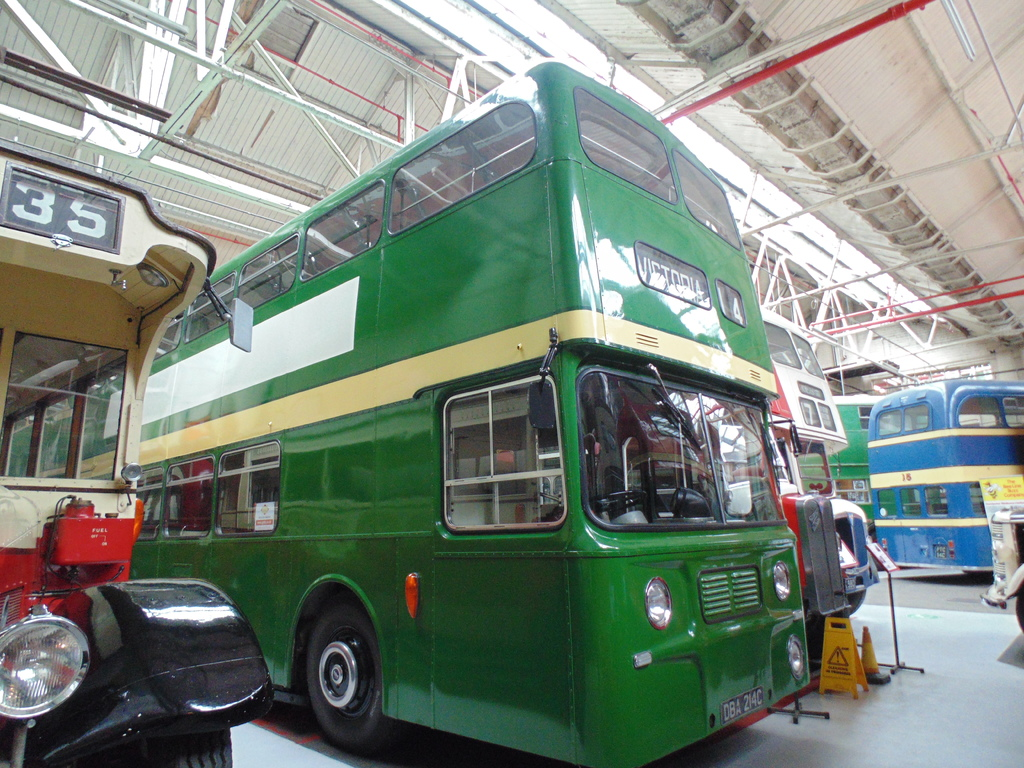Wheel: (286, 608, 384, 744), (145, 732, 230, 767)
